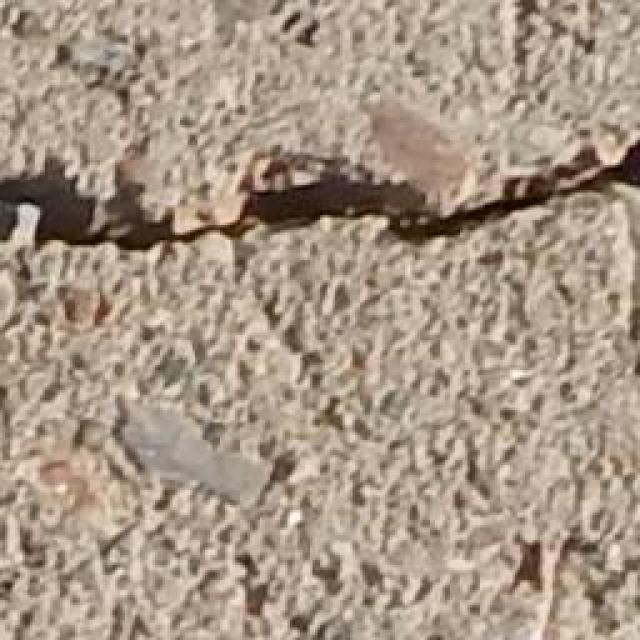concrete-crack: (0, 121, 640, 277)
